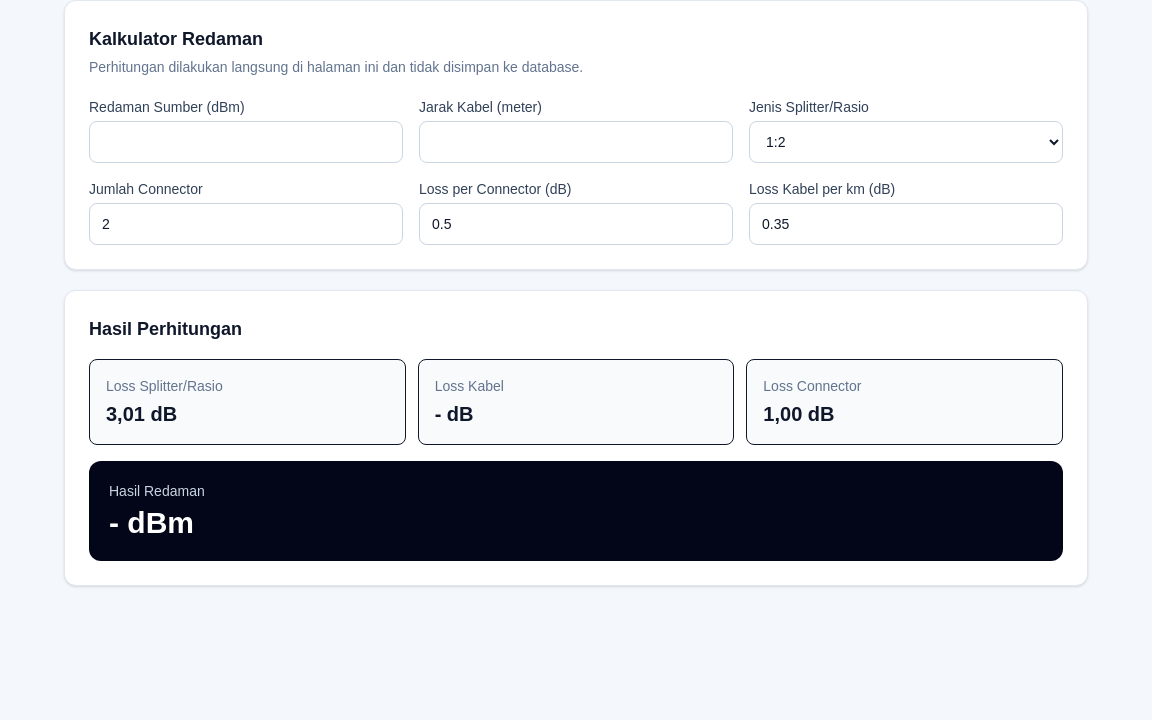
Test case: optical attenuation calculator › calculates the screenshot values after the initial blank render and recalculates later input changes
Step 1. Type "5" into the number field below "Redaman Sumber (dBm)" → (246, 142), box [89,121,403,163]
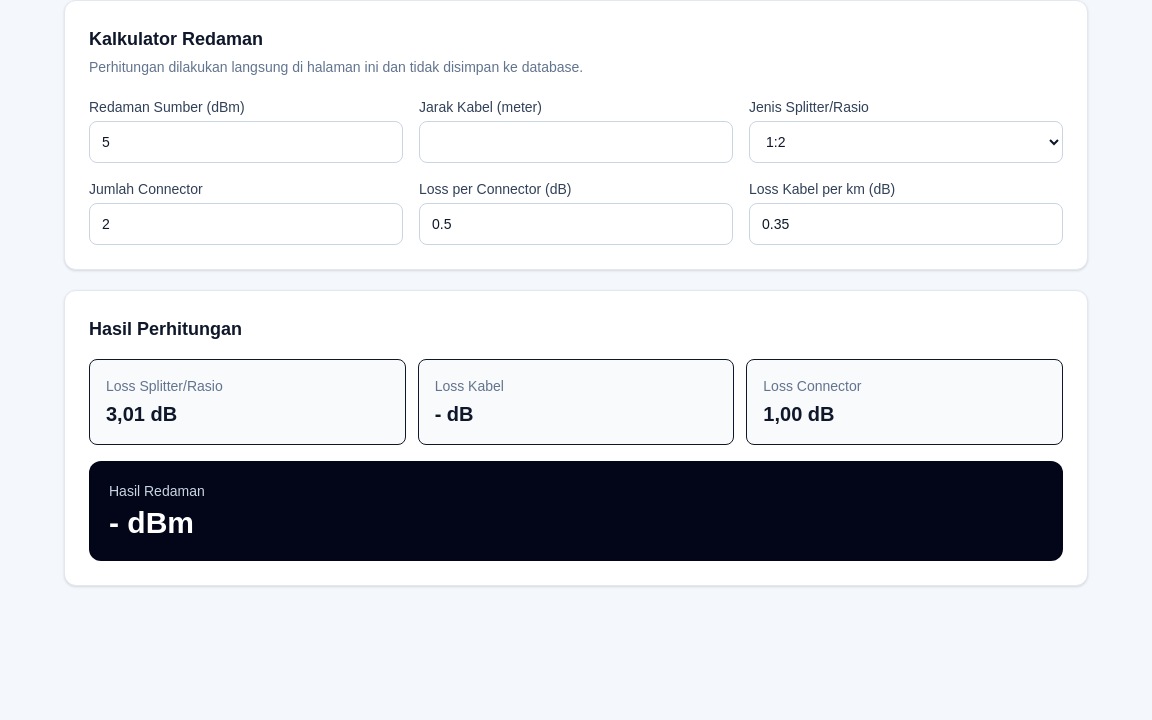
Step 2. Type "500" into the number field below "Jarak Kabel (meter)" → (576, 142), box [419,121,733,163]
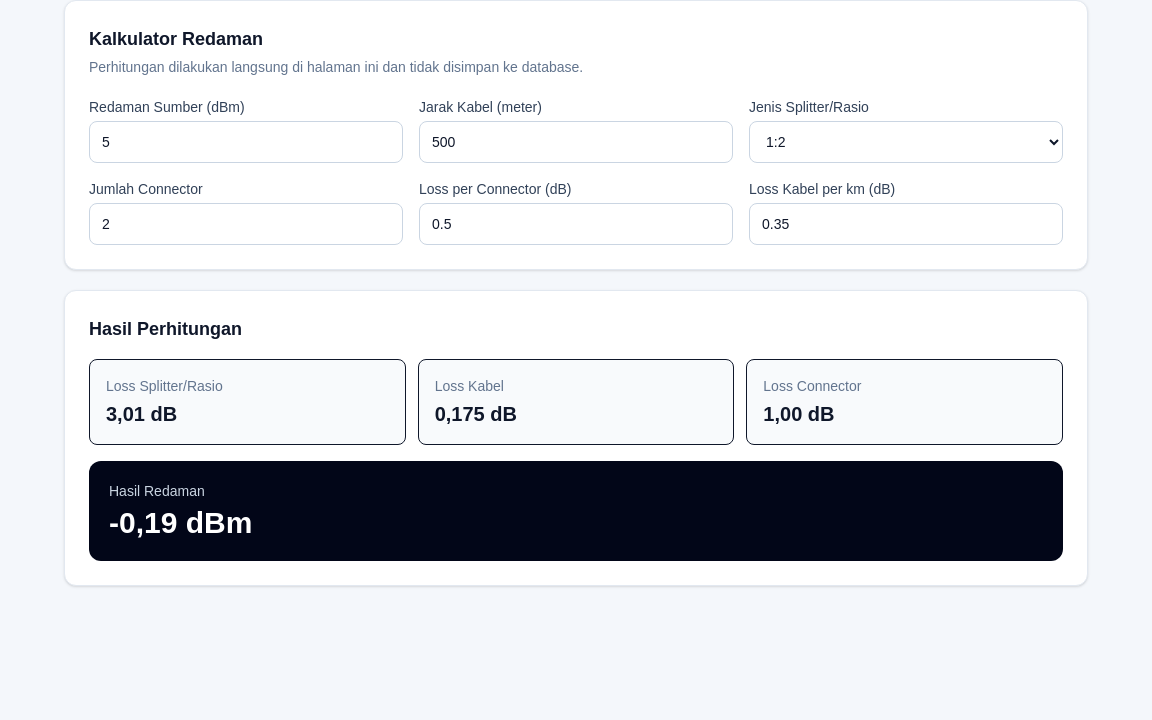
Expected: the text "-0,19 dBm" is shown, [109,506,252,539]
Step 3. Replace the text in the number field below "Jarak Kabel (meter)" with "1000" → (576, 142), box [419,121,733,163]
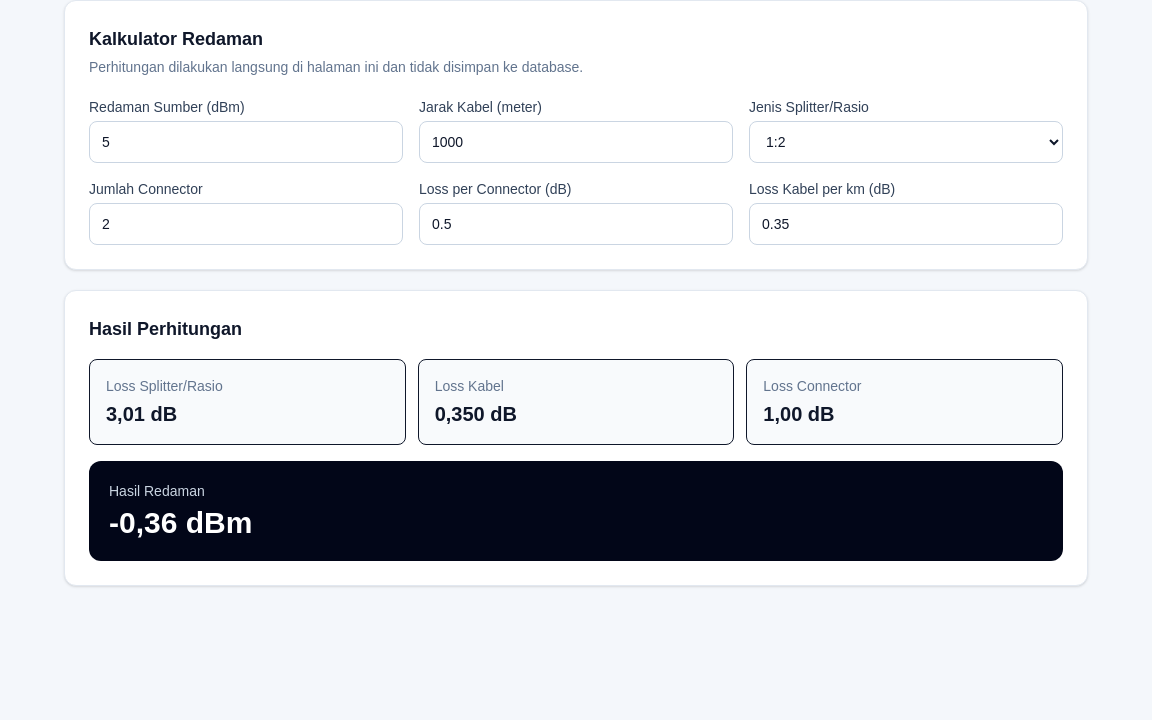
Expected: the text "0,350 dB" is shown, [435,403,517,425]
Expected: the text "-0,36 dBm" is shown, [109,506,252,539]
Step 4. Replace the text in the number field below "Redaman Sumber (dBm)" with "-10" → (246, 142), box [89,121,403,163]
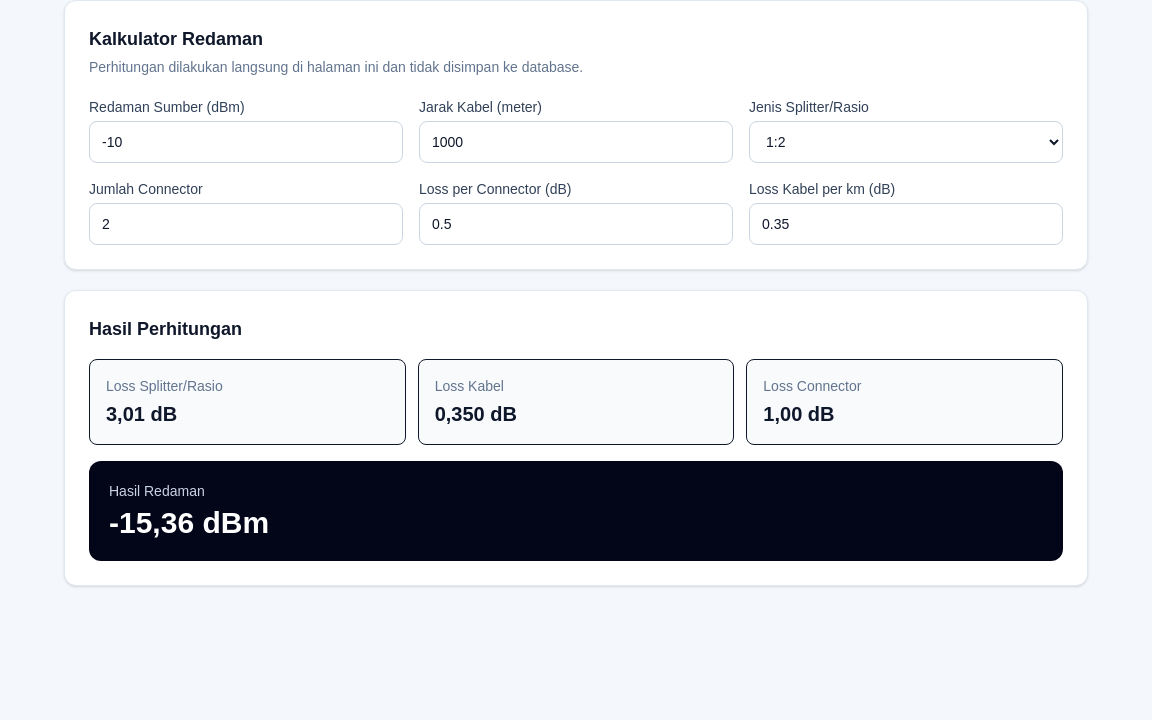
Expected: the text "-15,36 dBm" is shown, [109,506,269,539]
